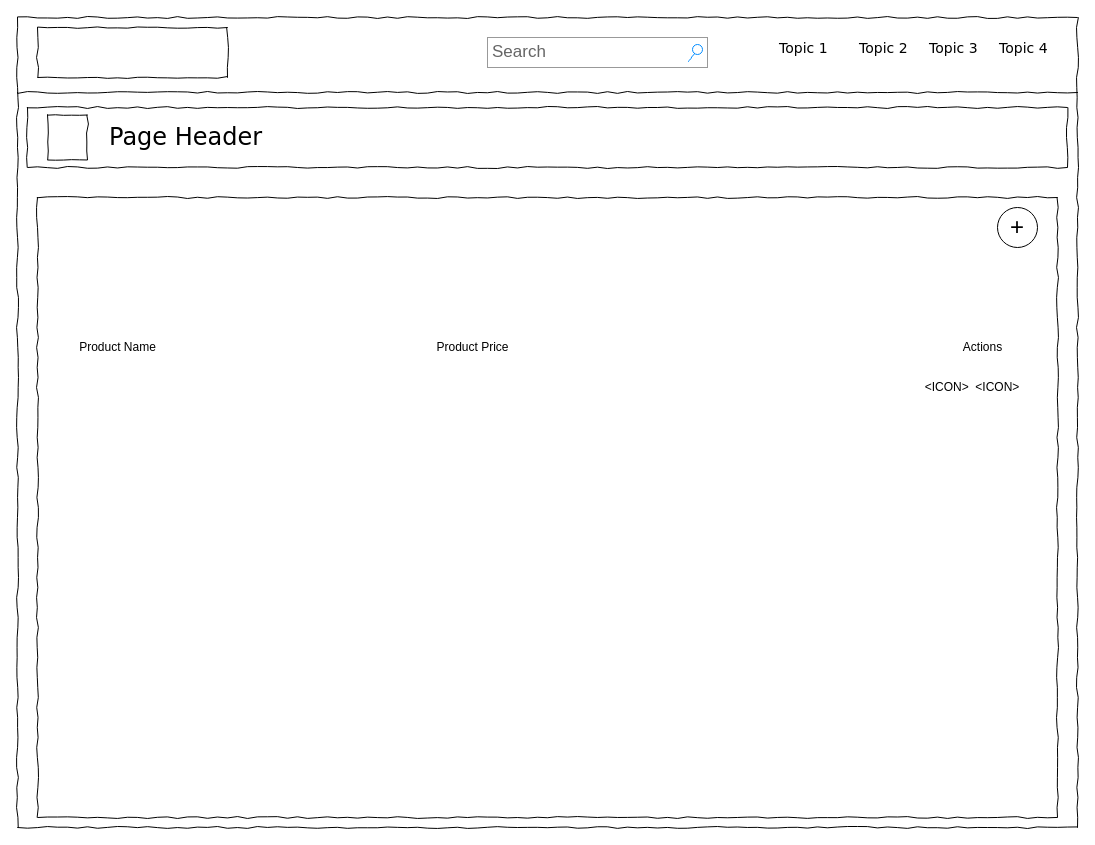
This 1095x845 diagram has some shape labels left out. The shapes that lost their labels are listed below. From the top down, each one's box as (x1, y1, x2, y2) in pixels, then its label:
(36, 26, 228, 78): LOGO
(46, 114, 88, 160): Icon
